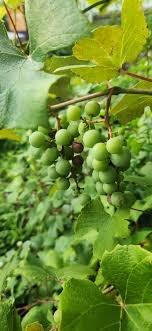Grape Rotten: (29, 100, 134, 210)
